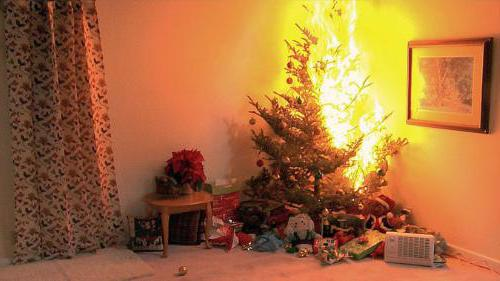fire: (278, 4, 398, 193)
